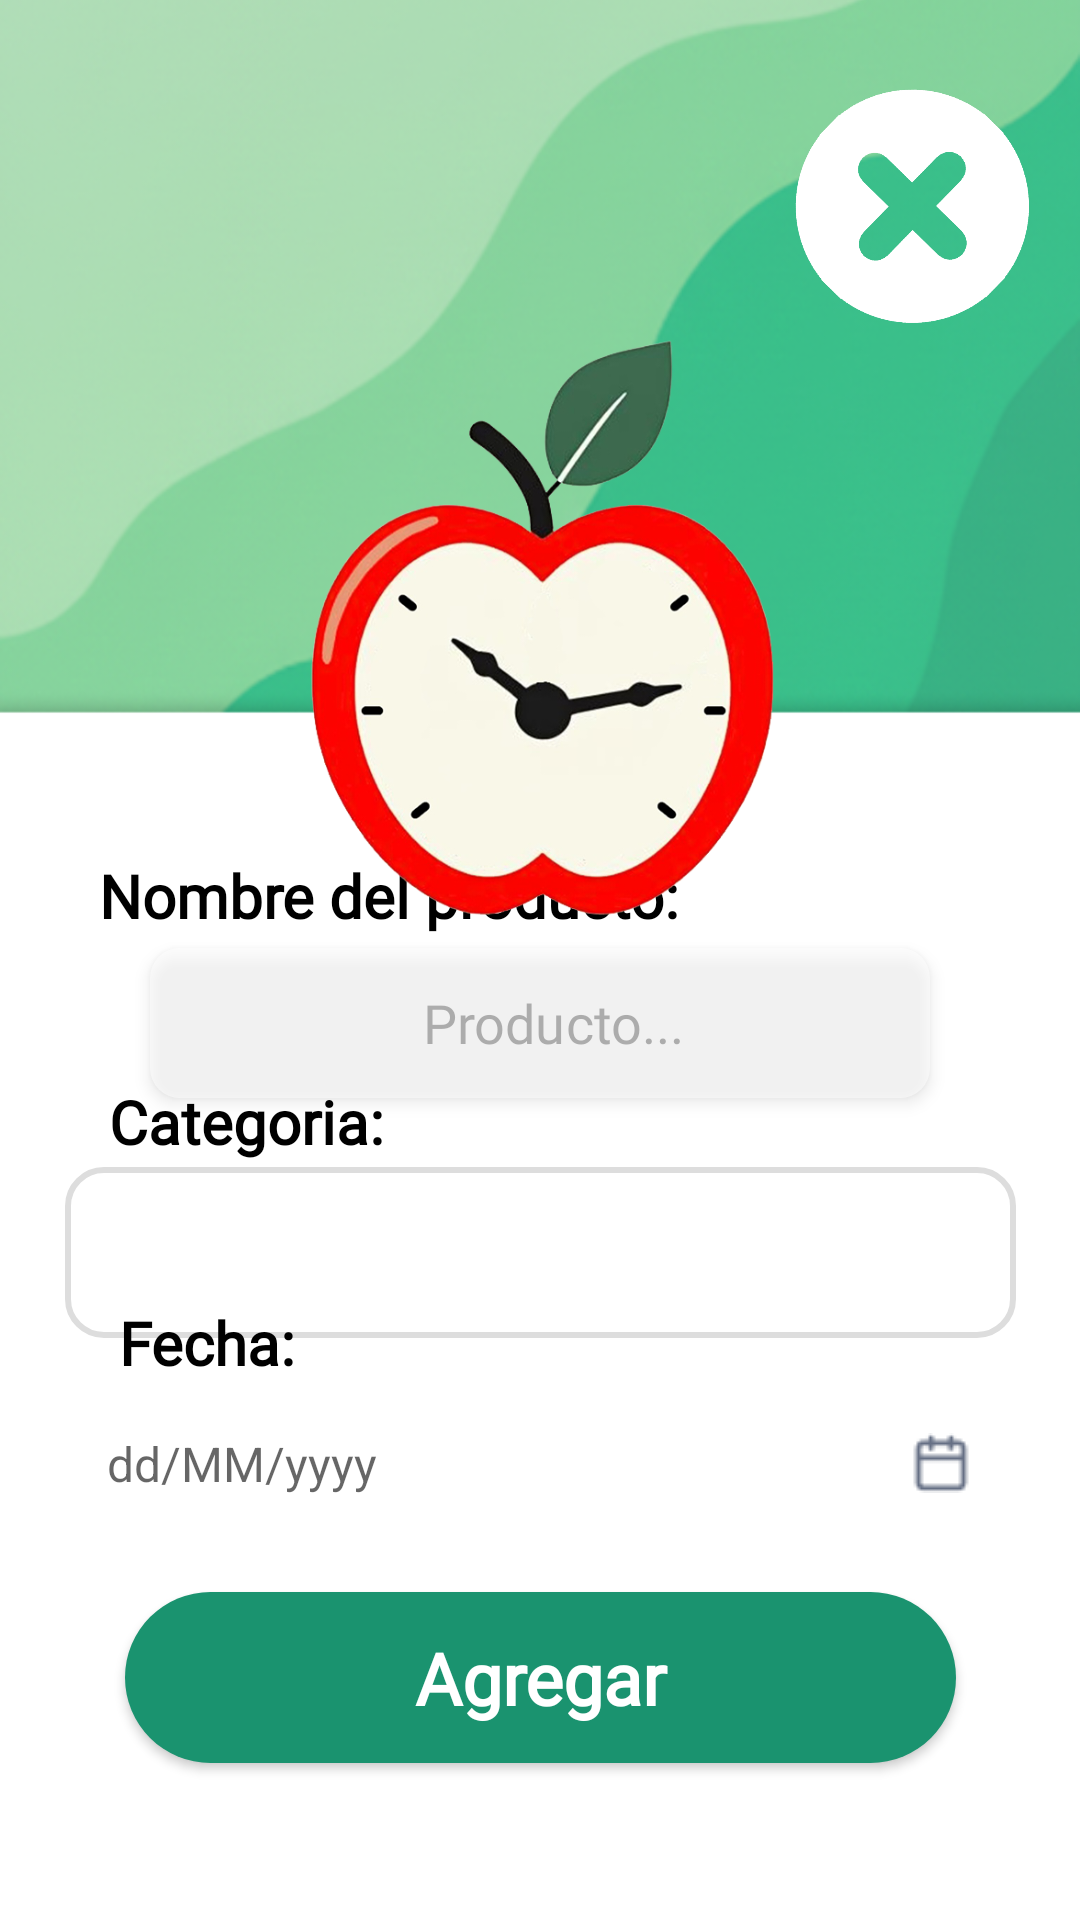

Named icons in this screenshot (1080w x 1920h) and their centers, [x,y]:
calendario: [941,1463]
salir: [910,203]
